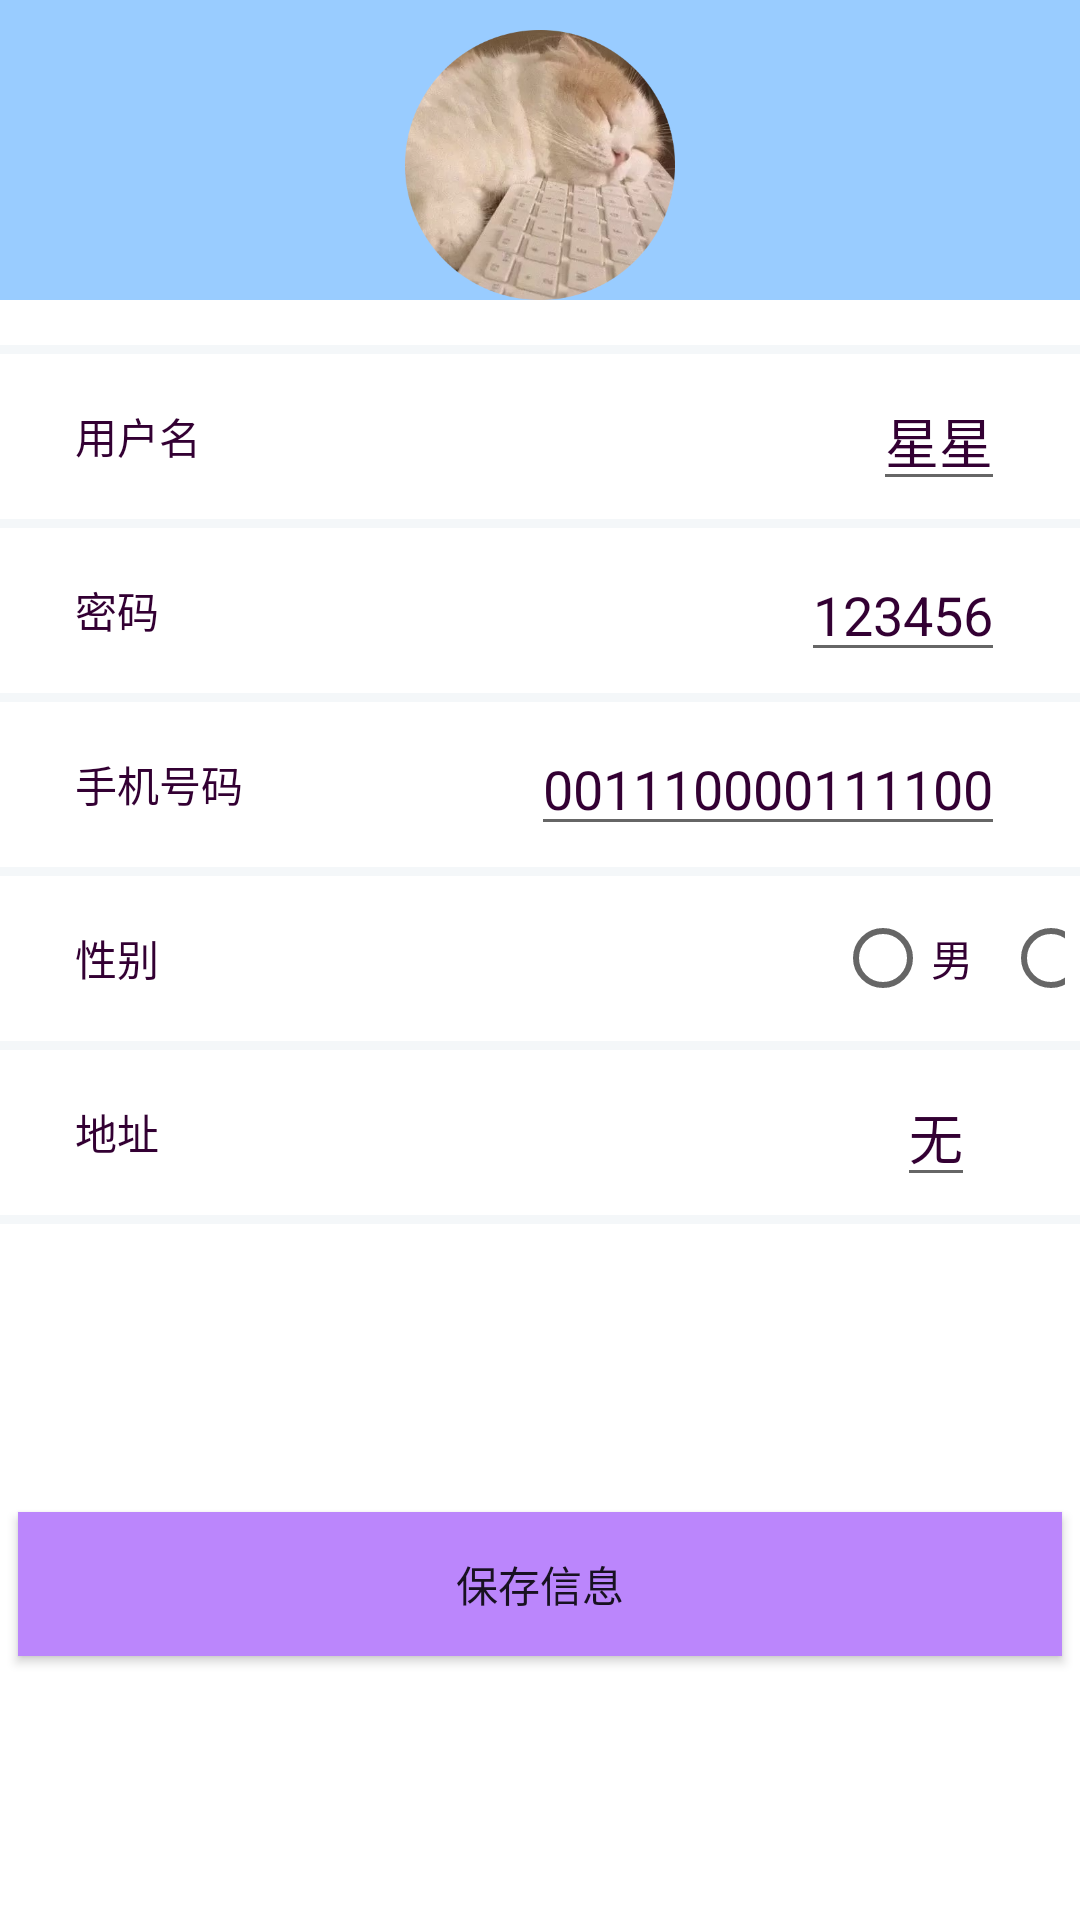

Screen size 1080x1920. Icon name, then its box in pixels as Rect(x1, y1, x2, y2):
cat: Rect(405, 30, 675, 300)
